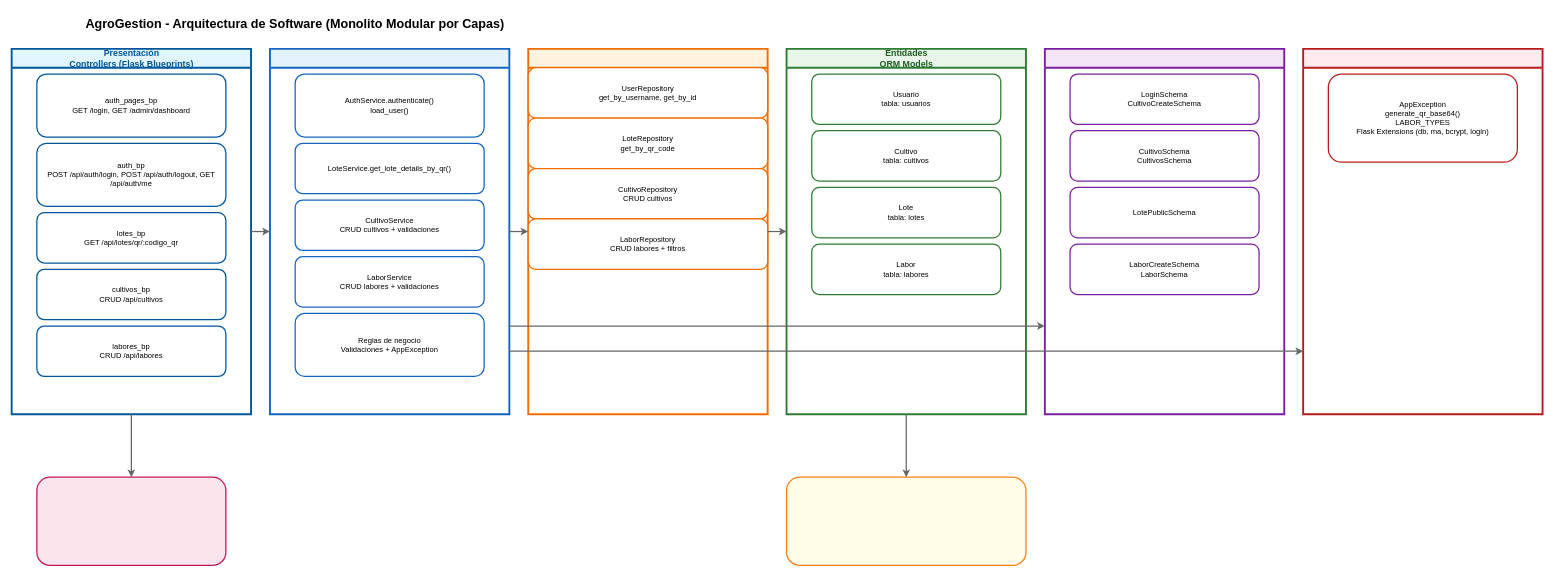
Image size: 1554x576. Some labels were removed from this diagram. The shapes that lost their labels are listed below. From the top down, each one's box as (x1, y1, x2, y2) in pixels, then its label:
(269, 48, 510, 415): Servicios Lógica de Negocio
(527, 48, 768, 415): Repositorios Acceso a Datos
(1044, 48, 1285, 415): DTOs Esquemas Marshmallow
(1302, 48, 1543, 415): Shared Utilidades Compartidas
(36, 476, 226, 566): Frontend SPA HTML5 + CSS3 + JS Vanilla Bootstrap 5 + Store Pub/Sub
(786, 476, 1026, 566): MySQL/MariaDB agrogestion usuarios, cultivos, lotes, labores
